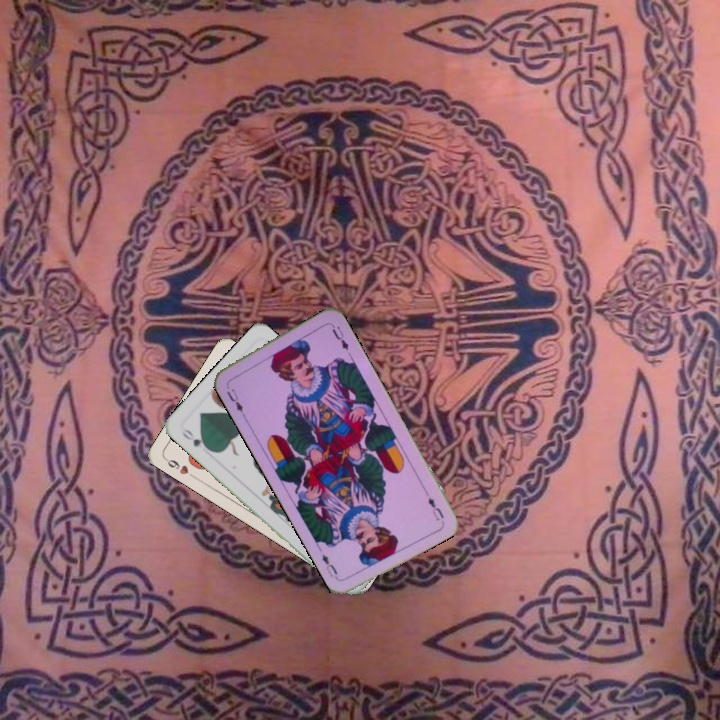EU: (420, 486, 447, 523), (223, 384, 247, 419)
GO: (177, 425, 213, 453)
H9: (161, 454, 197, 480)
